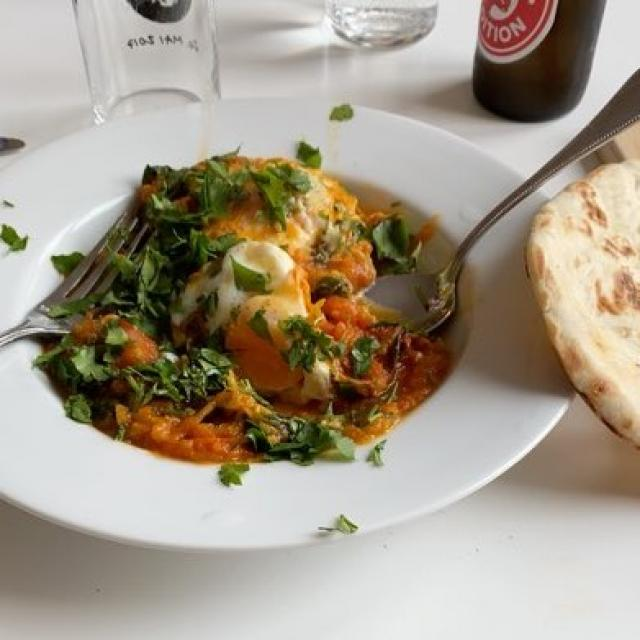egg: (156, 240, 364, 392)
naan-indien-bread: (528, 160, 636, 442)
soup-of-lentils-dahl-dhal: (68, 156, 436, 461)
